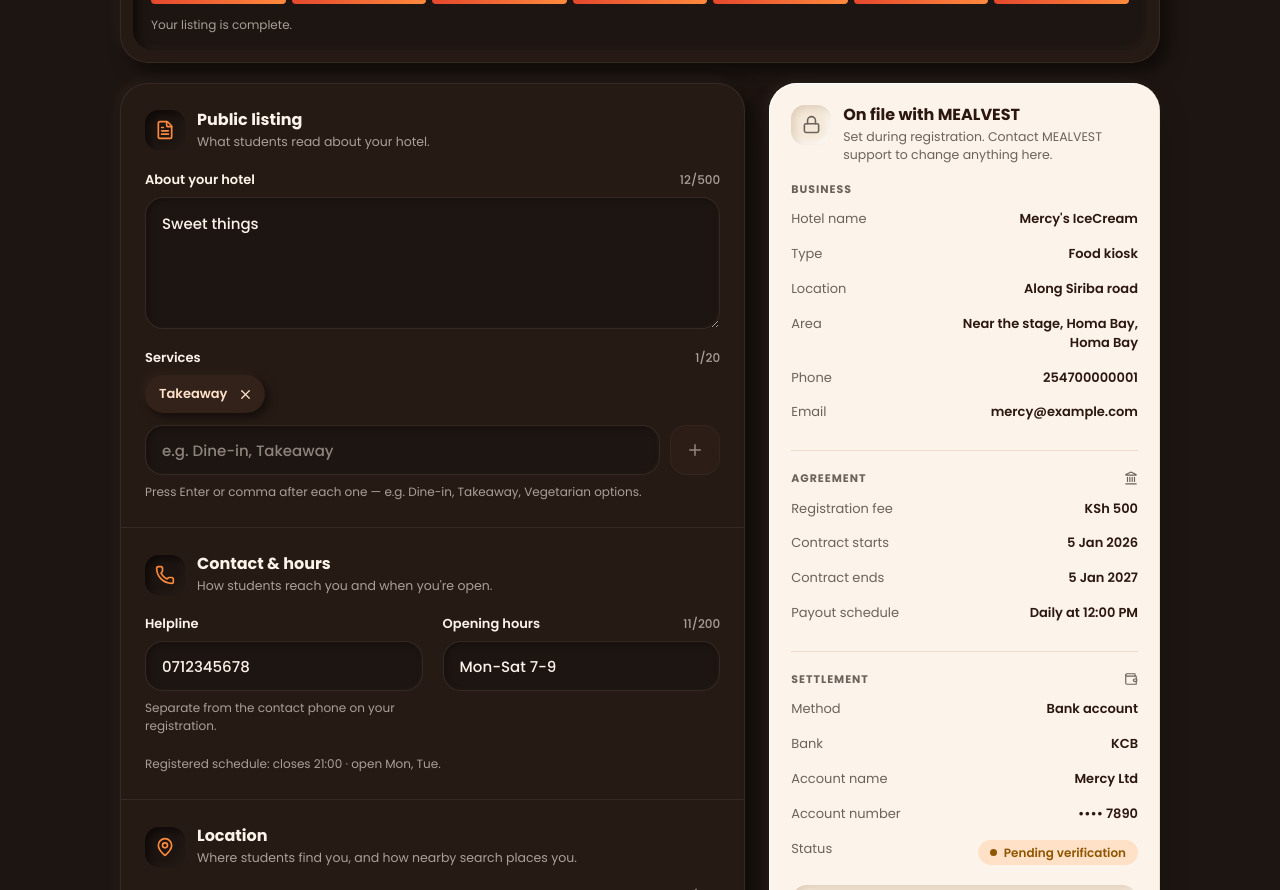
Test case: HotelProfileScreen › services: duplicates are refused, chips are removable
(page scrolled)
Type "takeaway" into the field labelled "Services" at coordinates (403, 450), box [145,425,660,475]
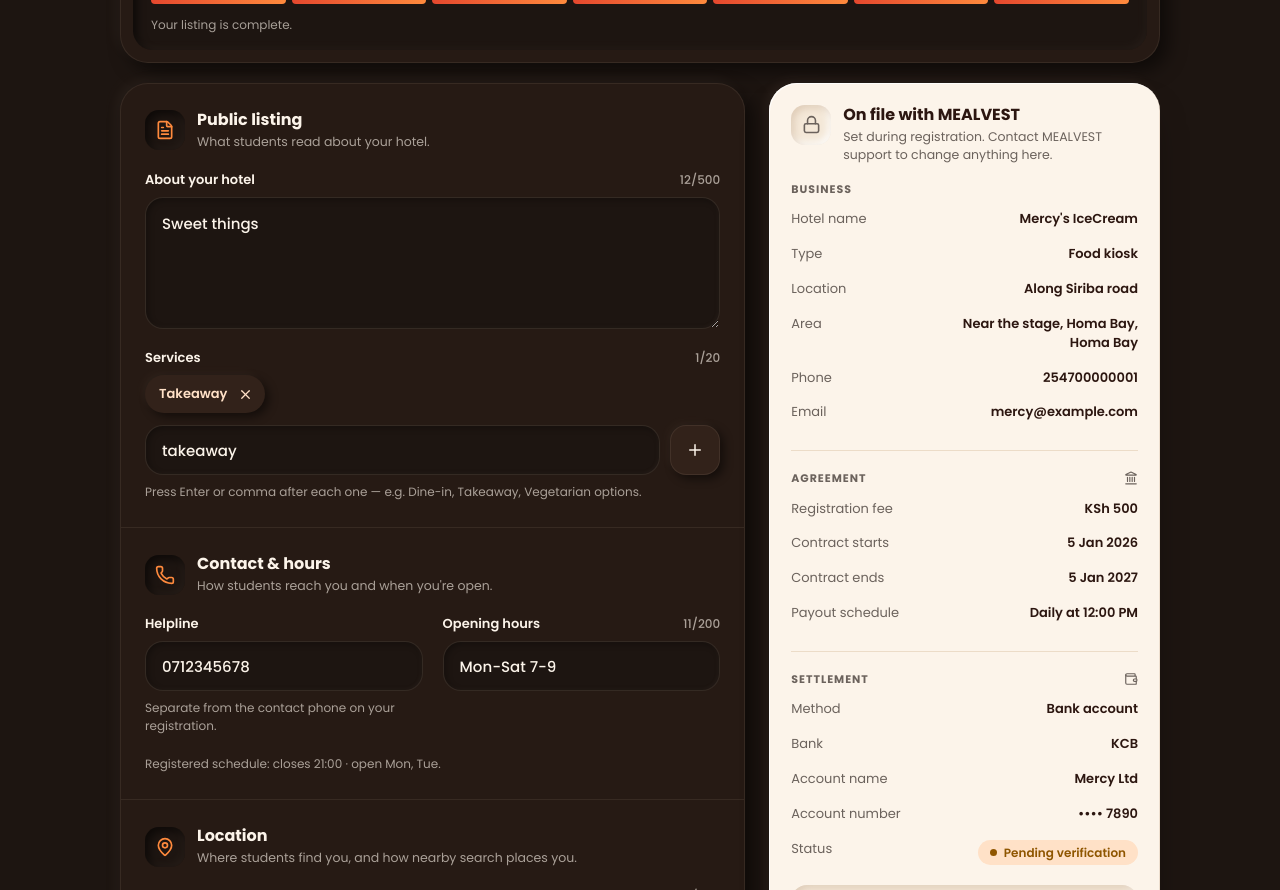
Press Enter in the field labelled "Services", box [145,425,660,475]
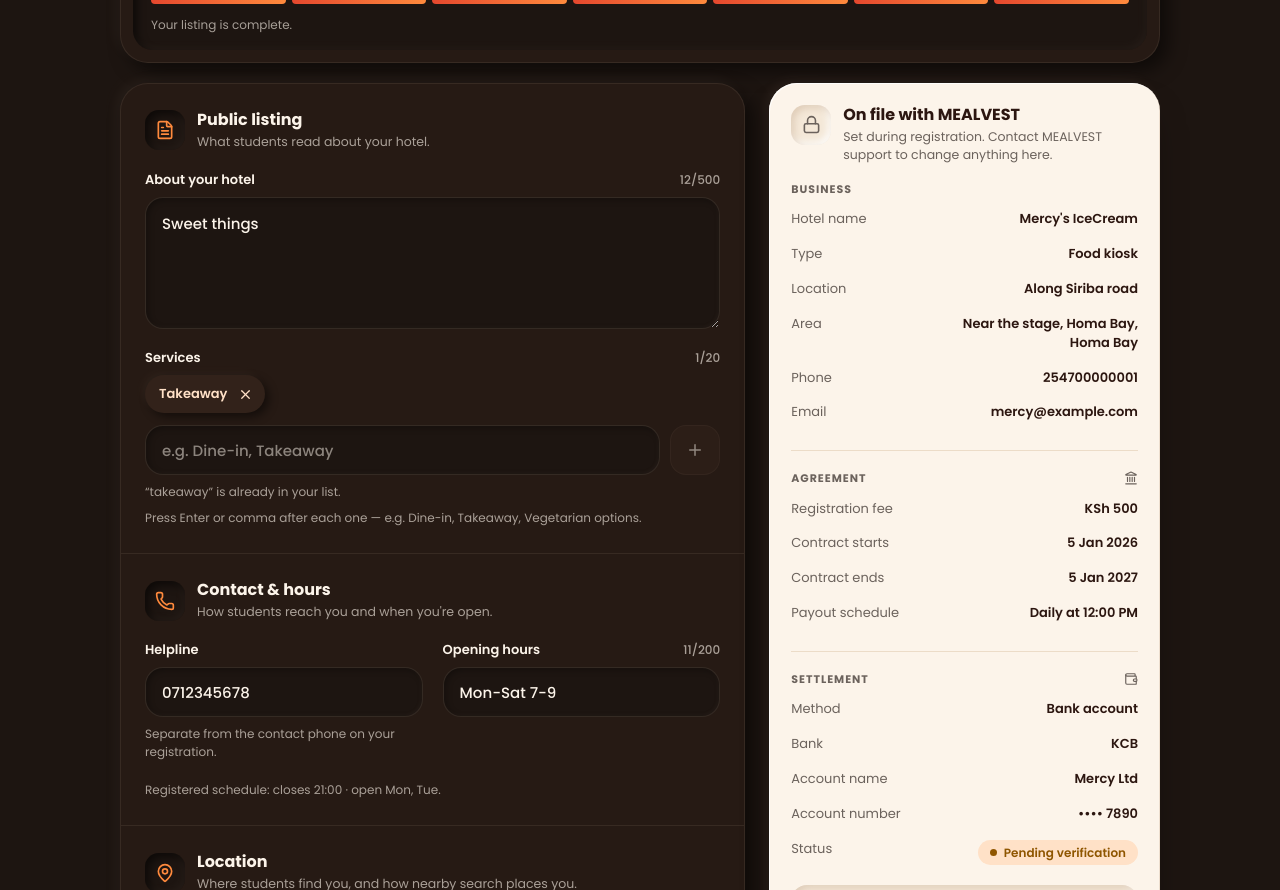
Expected: the text "1 unsaved change" is not shown
Expected: the text "“takeaway” is already in your list." is shown, [145,483,340,500]
Click the button named "Remove Takeaway" at coordinates (245, 394), box [229,378,261,410]
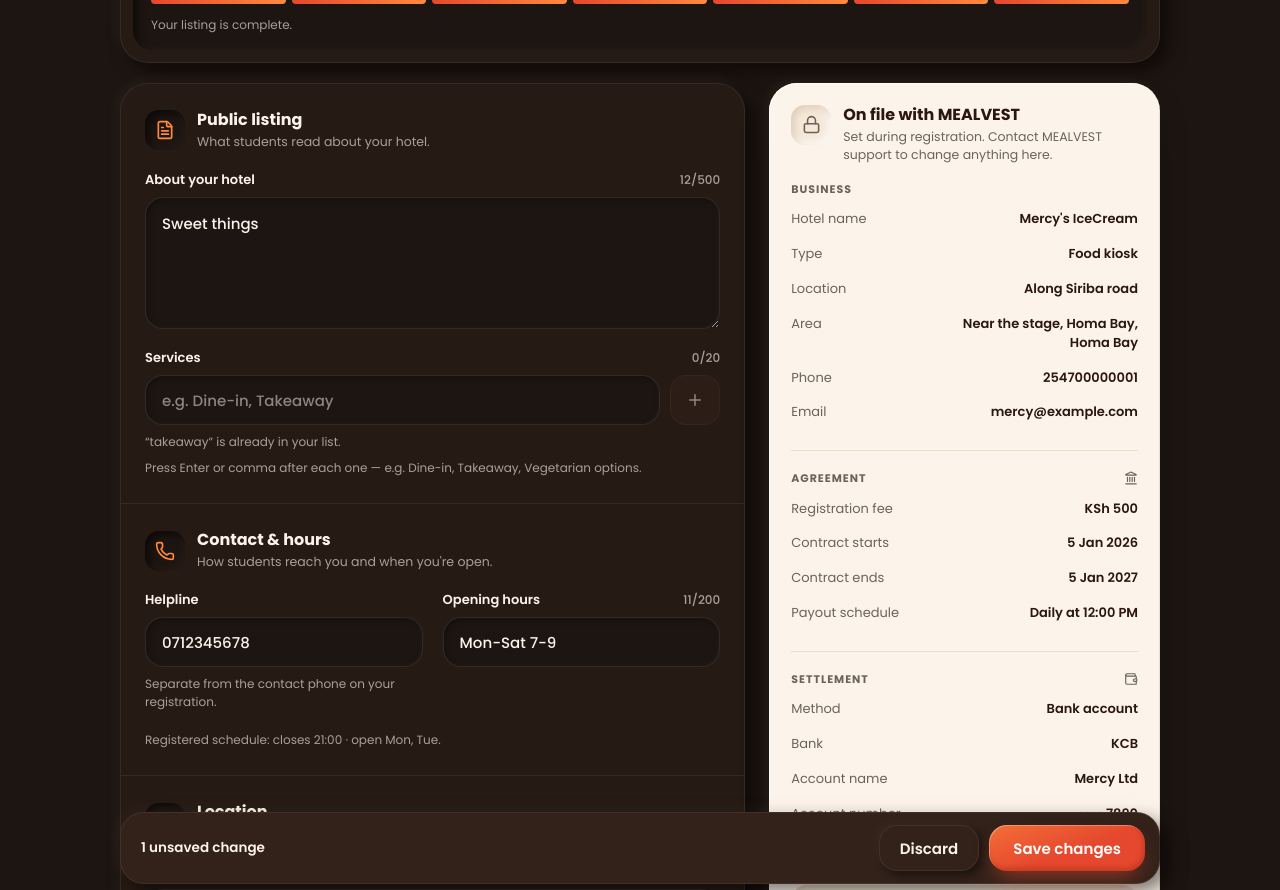
Expected: the text "1 unsaved change" is shown, [141,838,265,857]
